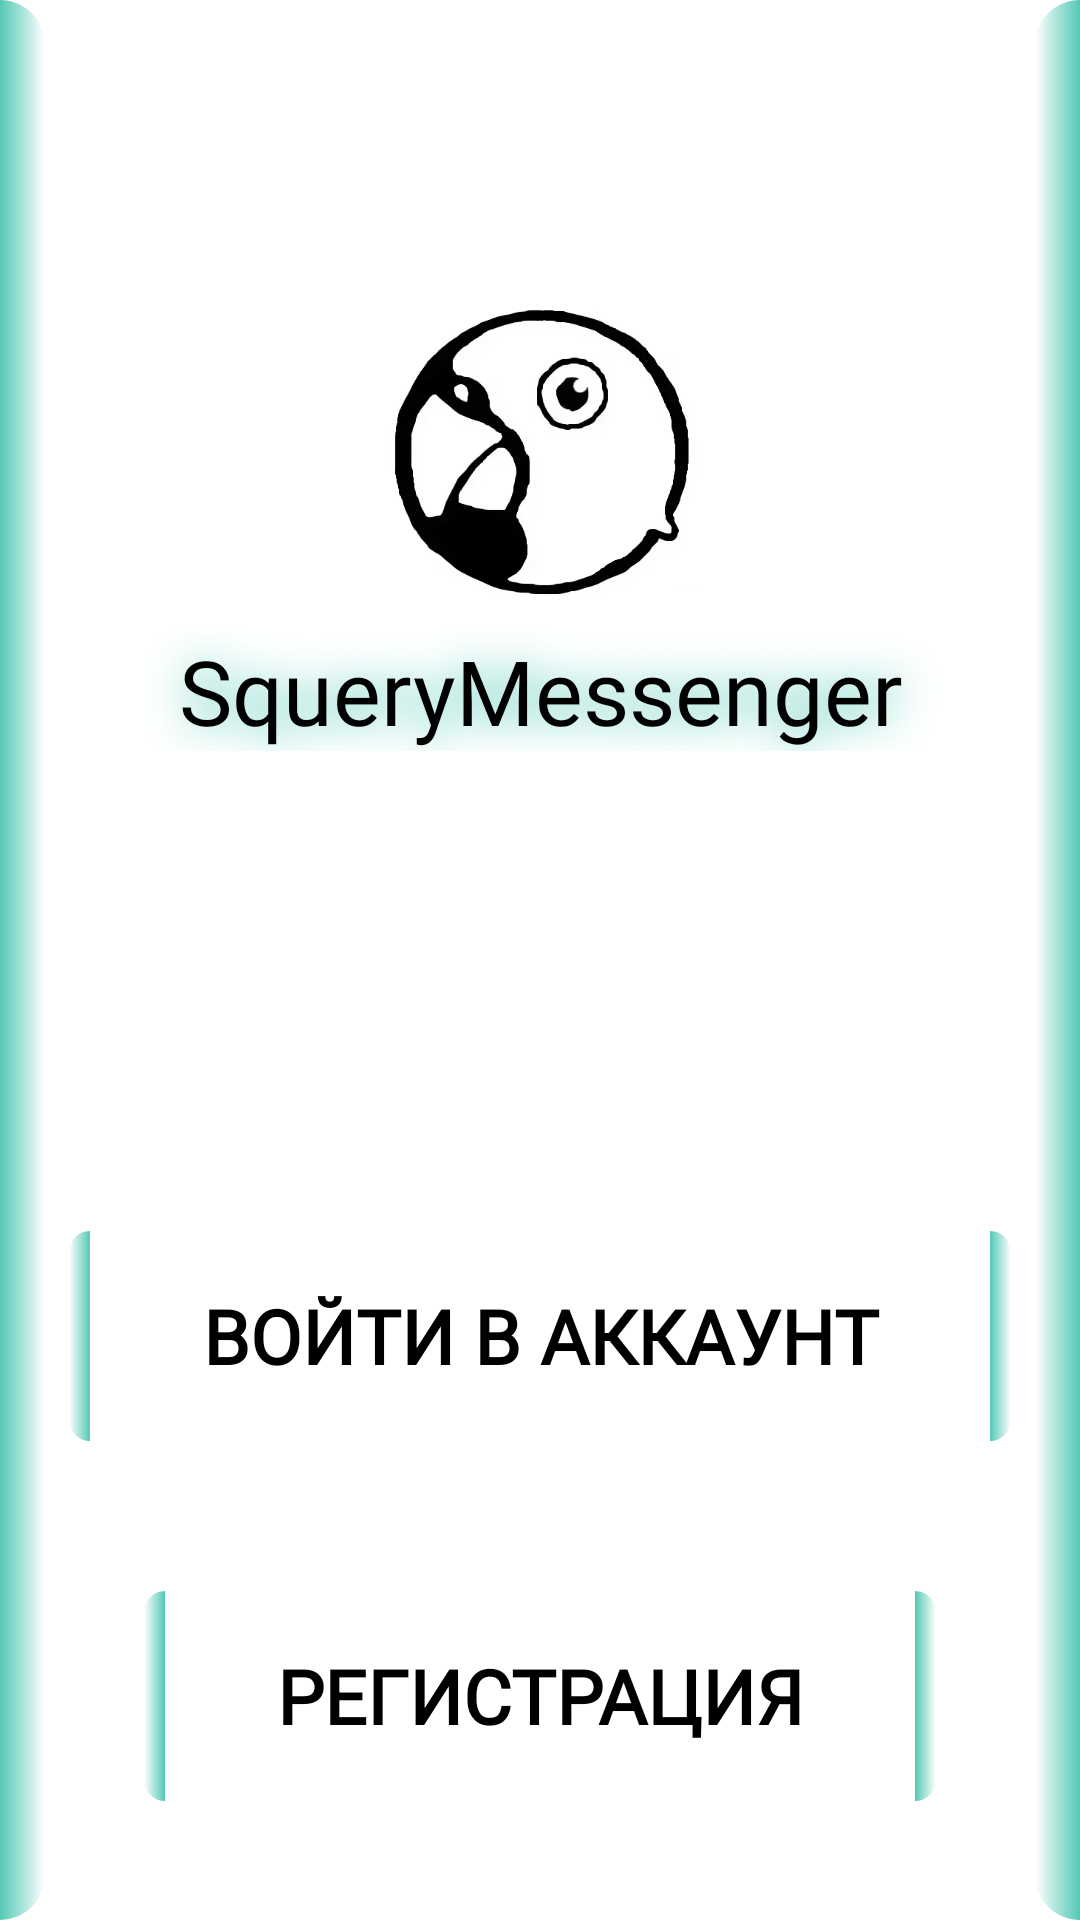

Where to tap for icons on this 1080 x 1920 app screen, as (x,y):
papagey better: (542,452)
